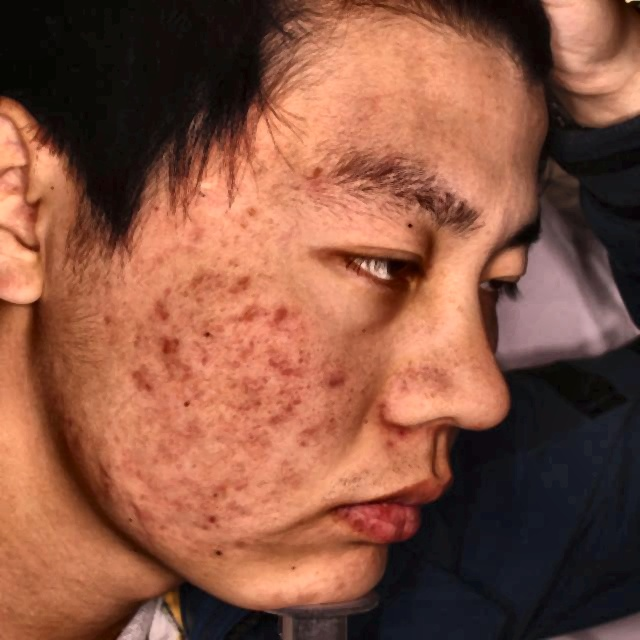pustule: (125, 498, 161, 530), (326, 370, 348, 396), (130, 367, 150, 394), (161, 333, 182, 358), (268, 306, 289, 330), (201, 512, 227, 529), (148, 303, 170, 322), (93, 459, 117, 475), (240, 306, 262, 323), (229, 535, 249, 553), (235, 278, 254, 296)
